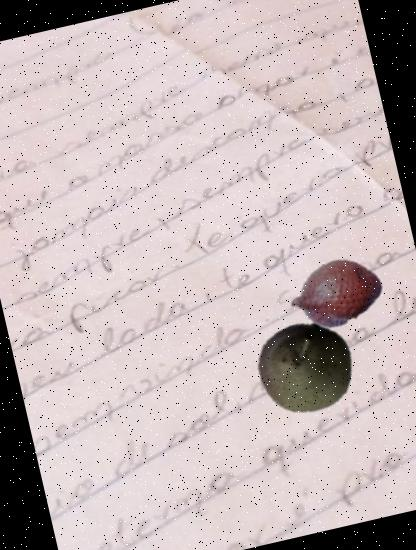Pear: (246, 308, 364, 426)
Salak: (279, 236, 392, 350)
